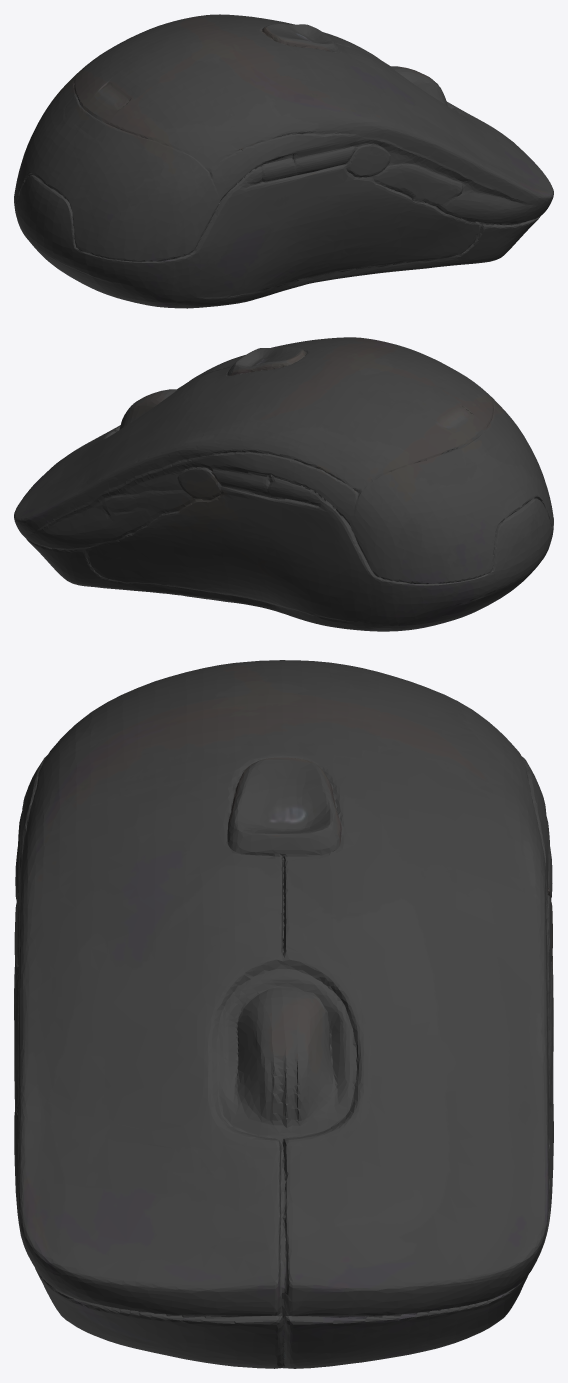
The picture shows the model from 3 angles, top to bottom: view 1: azimuth 30°, elevation 25°; view 2: azimuth 150°, elevation 25°; view 3: azimuth 270°, elevation 25°; orthographic projection. The views are drawn at different scales.
Parts seen in each view (by area): view 1: mouse.obj; view 2: mouse.obj; view 3: mouse.obj.
Part boxes in pixels (x1,y1,x2,y2): mouse.obj: (14,14,553,308); mouse.obj: (14,337,553,631); mouse.obj: (14,660,553,1368).
Size of the model in its own units: 0.07 by 0.0338 by 0.0375.
Materials: 1 (1 with a texture image).
